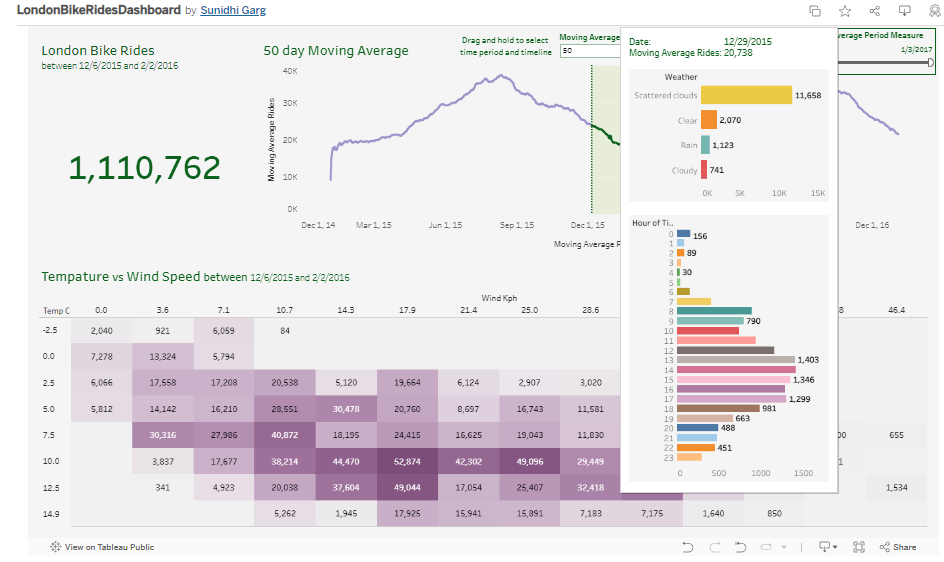

The dashboard page shown, as its layout file describes it:
{"tool":"tableau","page":{"name":"London Bike Rides Dashboard","canvas":[1366,768],"ordinal":0},"visuals":[{"type":"filter","title":"Moving Average","param":"[federated.0tnr82d0dnepfz0zzlv5w1wkd763].[none:Calculation_1004021279000838144:q","box":[1207,6,147,70]},{"type":"parameter","param":"[Parameters].[Parameter 1]","box":[1014,7,162,44]},{"type":"worksheet","title":"Total Rides","mark":"Automatic","box":[8,8,333,340]},{"type":"worksheet","title":"Moving Average","mark":"Automatic","rows":["Calculation1"],"cols":["Calculation_1004021279000838144"],"box":[341,8,1017,340]},{"type":"parameter","param":"[Parameters].[Parameter 2]","box":[818,11,193,44]},{"type":"text","box":[663,13,148,41]},{"type":"worksheet","title":"Heatmap","mark":"Square","rows":["temp real C (bin)"],"cols":["Wind Speed Kph (bin)"],"box":[8,348,1350,412]}]}

Visuals, with their boxes on the page's 1366x768 design canvas (x1, y1, x2, y2). These are canvas units, not pixel positions in the 944x562 screenshot, which may show the page scaled, cropped or inside an application window:
"Moving Average" filter: 1207:6:1354:76
parameter: 1014:7:1176:51
"Total Rides" worksheet: 8:8:341:348
"Moving Average" worksheet: 341:8:1358:348
parameter: 818:11:1011:55
text: 663:13:811:54
"Heatmap" worksheet (Square marks): 8:348:1358:760
